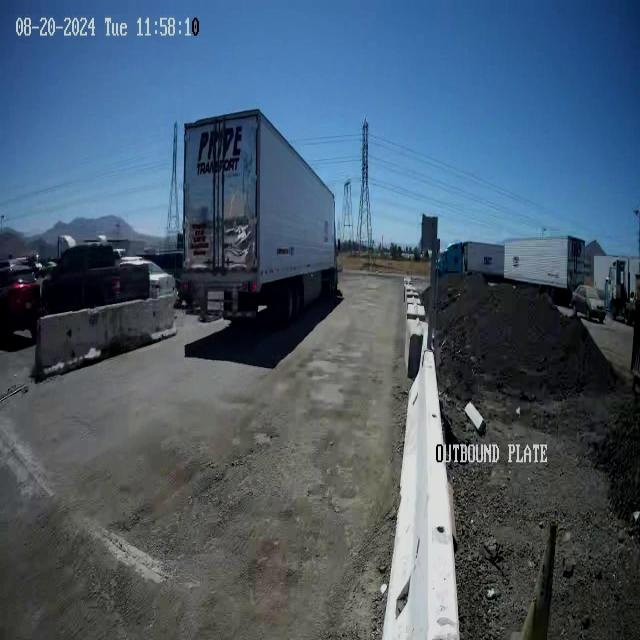TRUCK_CONTAINER: (177, 106, 339, 324)
